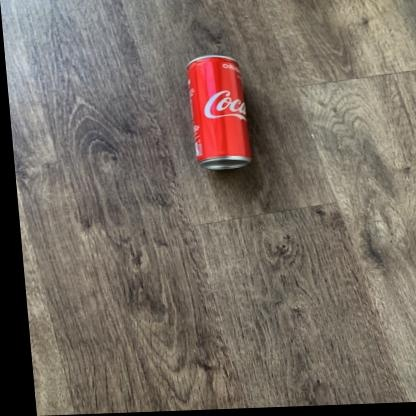trash: (187, 55, 251, 169)
